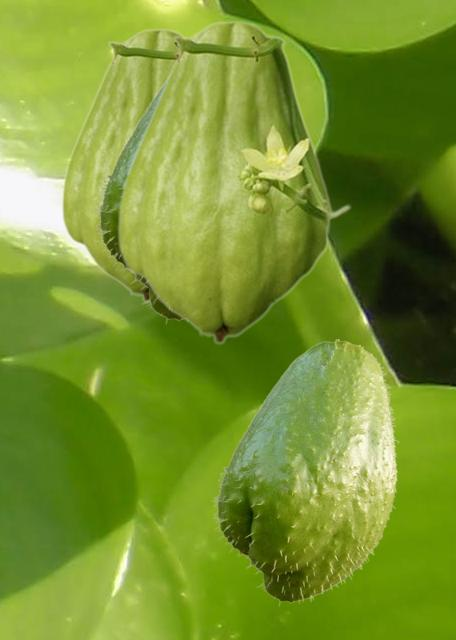sayote: (116, 20, 351, 344), (211, 339, 398, 605), (60, 28, 183, 301), (93, 85, 182, 323)
